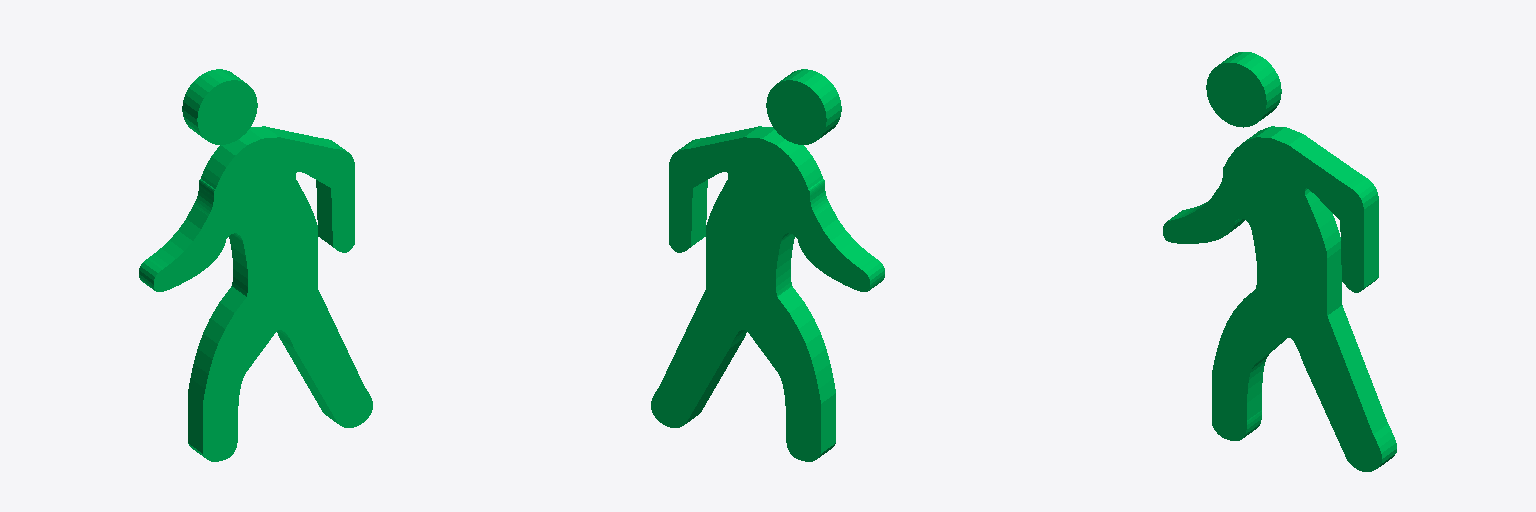
File: ren.obj
3 views of the same model, side by side, from view 1: azimuth 30°, elevation 25°; view 2: azimuth 150°, elevation 25°; view 3: azimuth 330°, elevation 25° (orthographic).
Parts seen in each view (by area): view 1: Shape1; view 2: Shape1; view 3: Shape1.
Boxes of the visible parts, box(x1,y1,x2,y2) form: Shape1: box(139, 69, 372, 461); Shape1: box(651, 69, 884, 461); Shape1: box(1163, 52, 1396, 471).
Size of the model in its own units: 4.22 by 6.96 by 0.5.